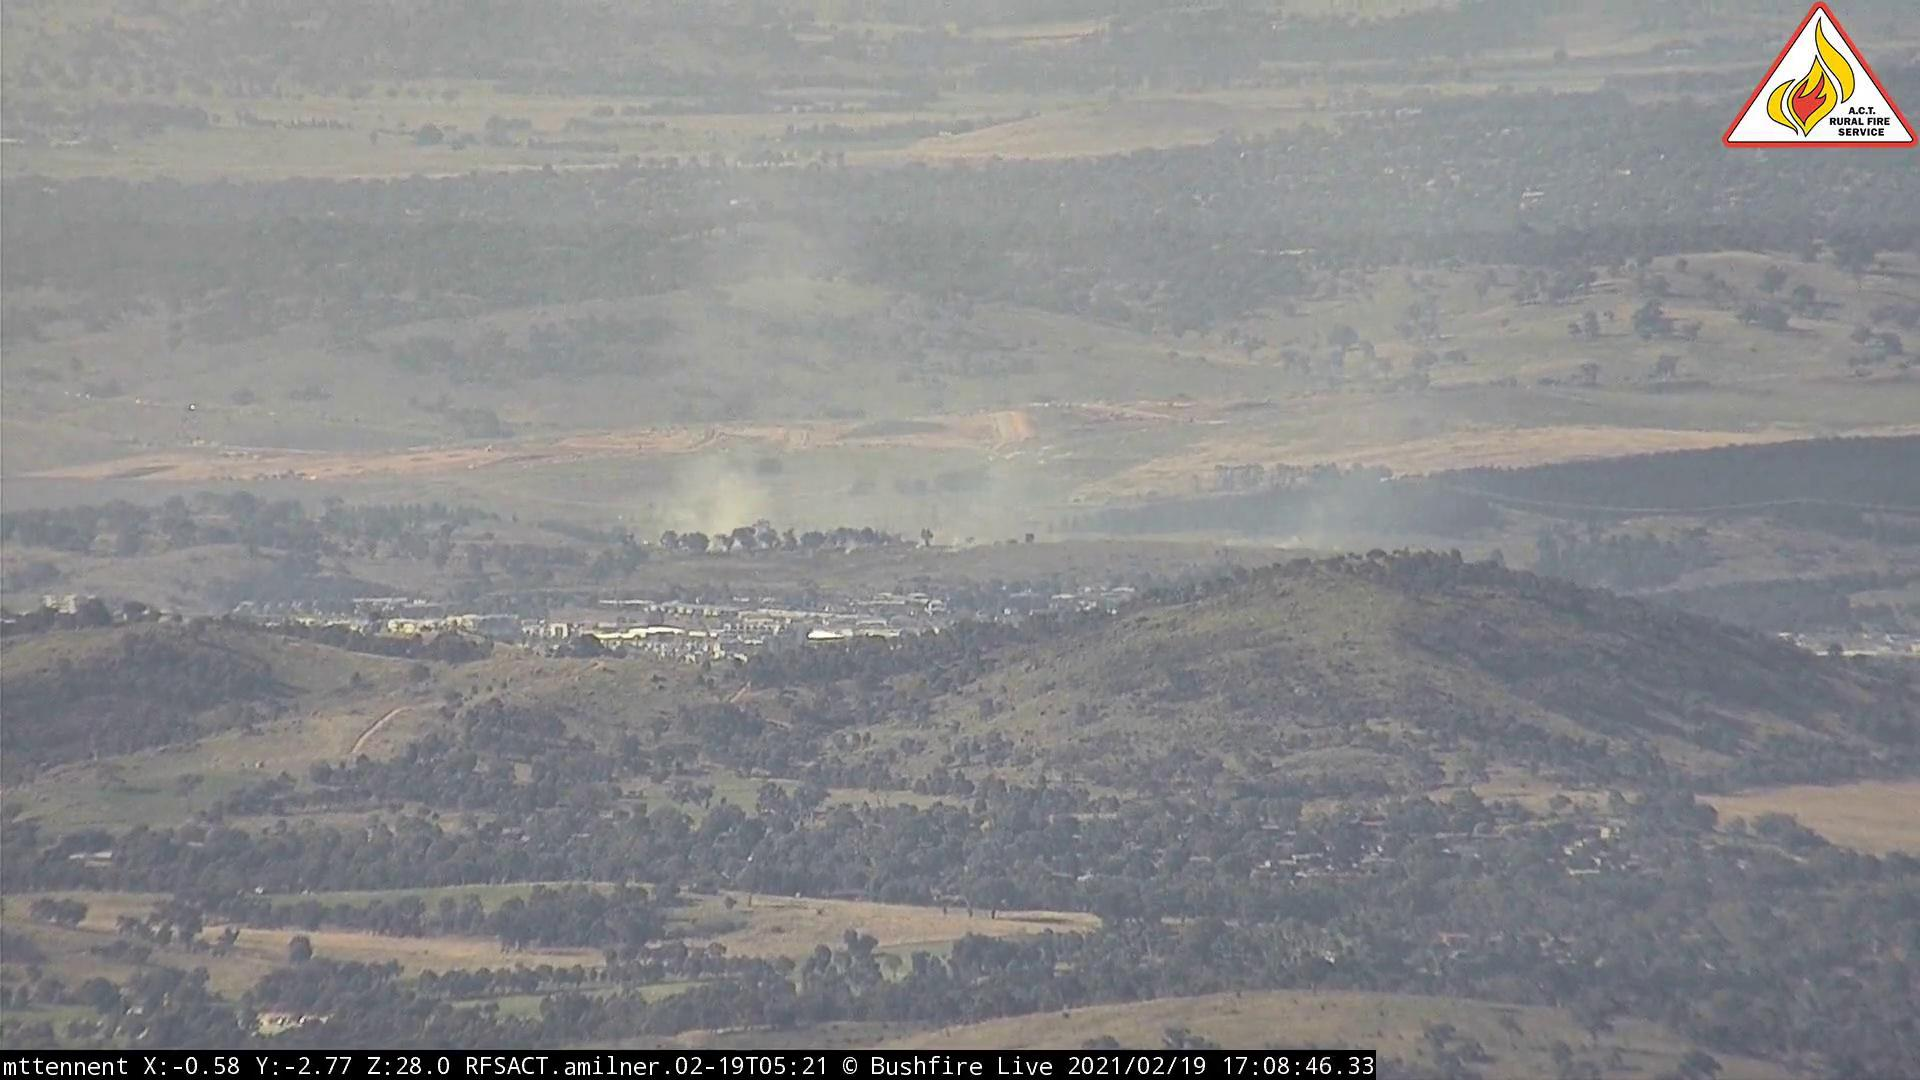instance_salient_object: (633, 334, 1064, 568), (1255, 436, 1462, 571)
